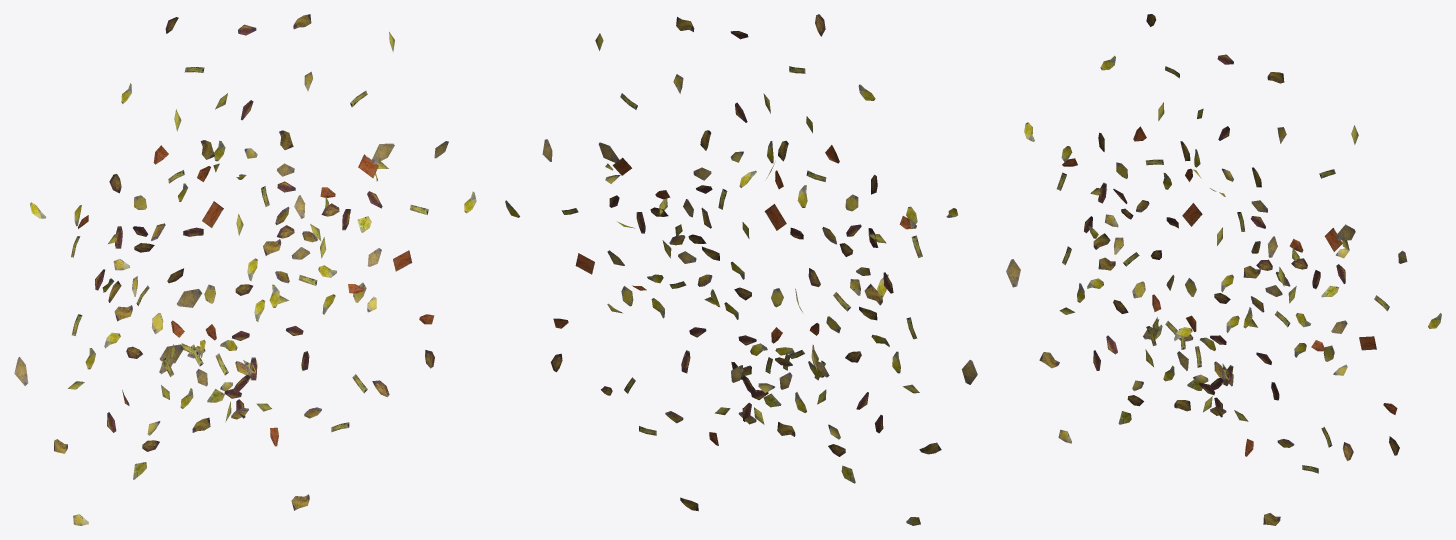
The model's file is hd_dec_UNI_008_LeavesAutumnDark_Circle_3m.glb.
3 views of the same model, side by side, from view 1: azimuth 30°, elevation 25°; view 2: azimuth 150°, elevation 25°; view 3: azimuth 330°, elevation 25° (orthographic). The views are drawn at different scales.
Visible parts, largest first — view 1: set_0_group_0; view 2: set_0_group_0; view 3: set_0_group_0.
Boxes of the visible parts, x1,y1,x2,y2 form: set_0_group_0: [14, 14, 476, 525]; set_0_group_0: [505, 14, 977, 525]; set_0_group_0: [1006, 14, 1441, 525].
Bounding box in the file's own units: 5.51 × 5.91 × 0.2337.
1 material, 1 textured.
